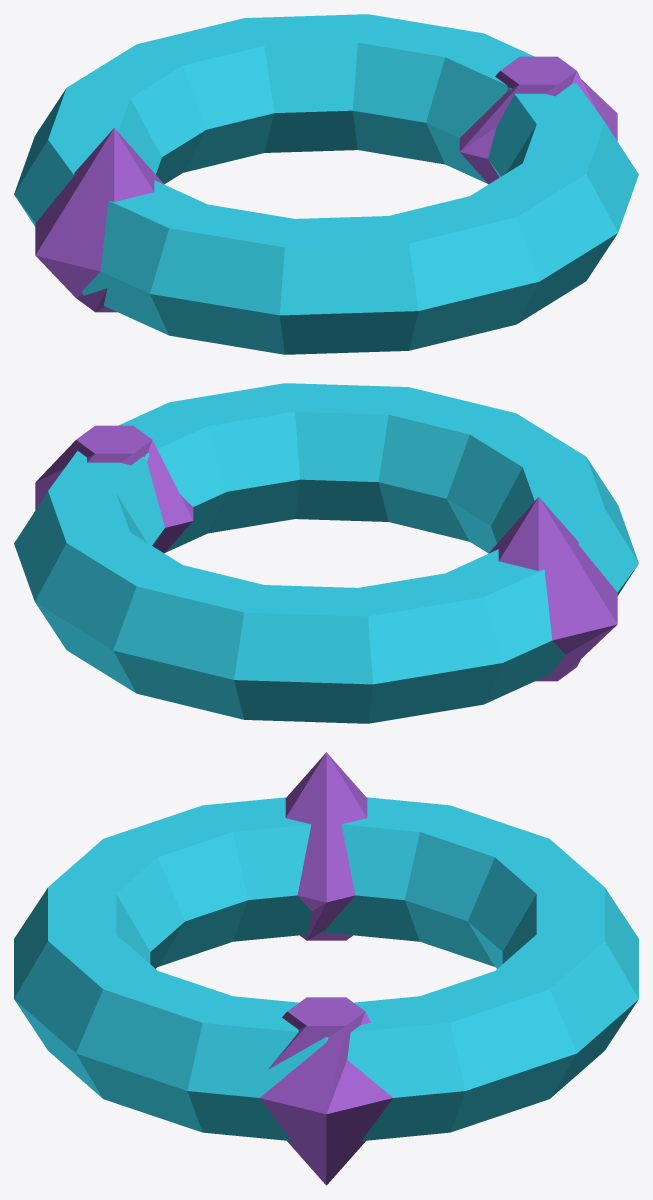
Rendered from crystal_ring.glb.
The picture shows the model from 3 angles, top to bottom: view 1: azimuth 30°, elevation 25°; view 2: azimuth 150°, elevation 25°; view 3: azimuth 270°, elevation 25°; orthographic projection. The views are drawn at different scales.
Parts seen in each view (by area): view 1: crystal_ring; view 2: crystal_ring; view 3: crystal_ring.
Boxes of the visible parts, bbox=[...] form: crystal_ring: bbox=[14, 14, 638, 354]; crystal_ring: bbox=[14, 383, 638, 723]; crystal_ring: bbox=[14, 752, 638, 1185].
Bounding box in the file's own units: 2.36 × 0.84 × 2.14.
